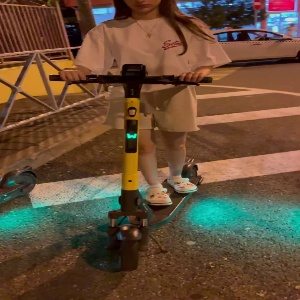human on a scooter: (45, 1, 232, 272)
